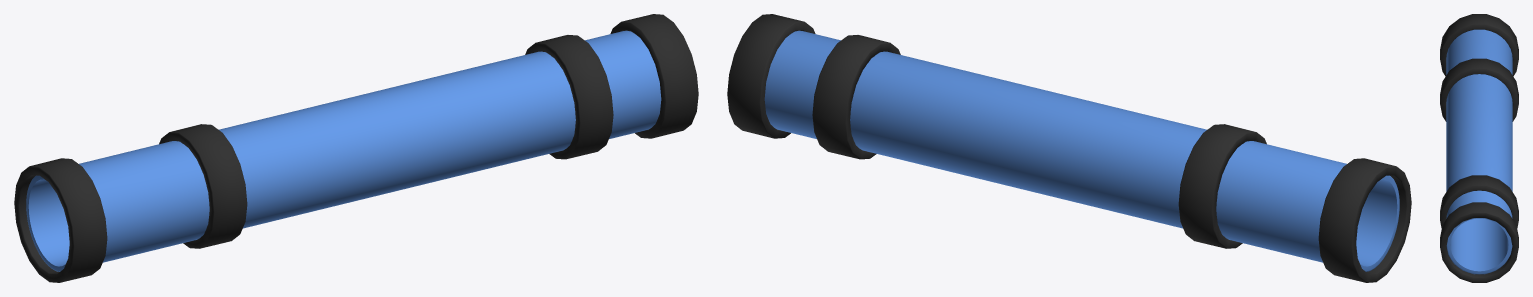
Rendered from pipe.fbx.
3 renders of one model, left to right at view 1: azimuth 30°, elevation 25°; view 2: azimuth 150°, elevation 25°; view 3: azimuth 270°, elevation 25°, orthographic. The views are drawn at different scales.
Visible parts, largest first — view 1: Head_1; view 2: Head_1; view 3: Head_1.
Part boxes in pixels (x1=…): Head_1: x1=14, y1=14, x2=698, y2=282; Head_1: x1=727, y1=14, x2=1411, y2=282; Head_1: x1=1440, y1=14, x2=1518, y2=282.
Size of the model in its own units: 3.48 by 0.5735 by 0.5823.
